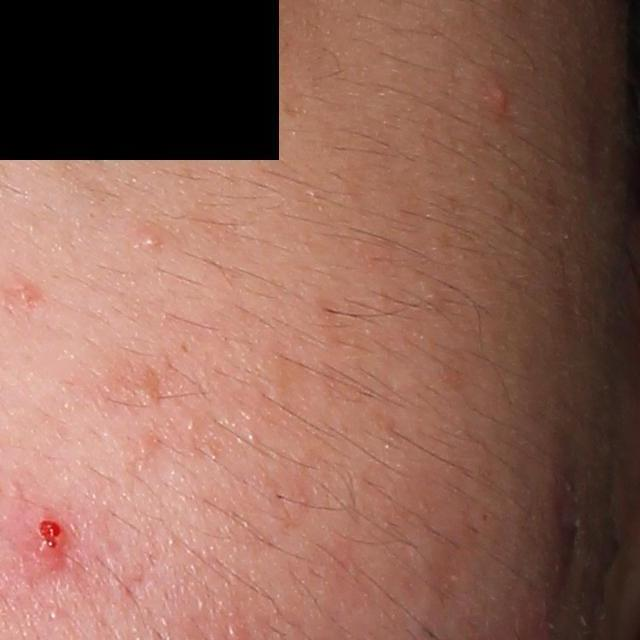comedo: (143, 232, 160, 249)
papule: (486, 75, 511, 119)
